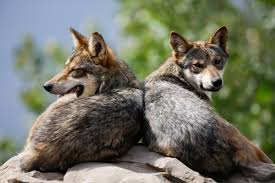Lobo: (8, 16, 145, 160), (146, 16, 270, 173)
